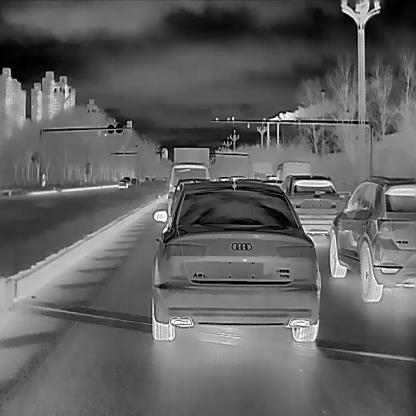car: (150, 180, 321, 341), (328, 174, 416, 302), (280, 174, 341, 234), (166, 162, 210, 214), (276, 158, 310, 192), (118, 179, 128, 189)
truck: (249, 160, 274, 188)
